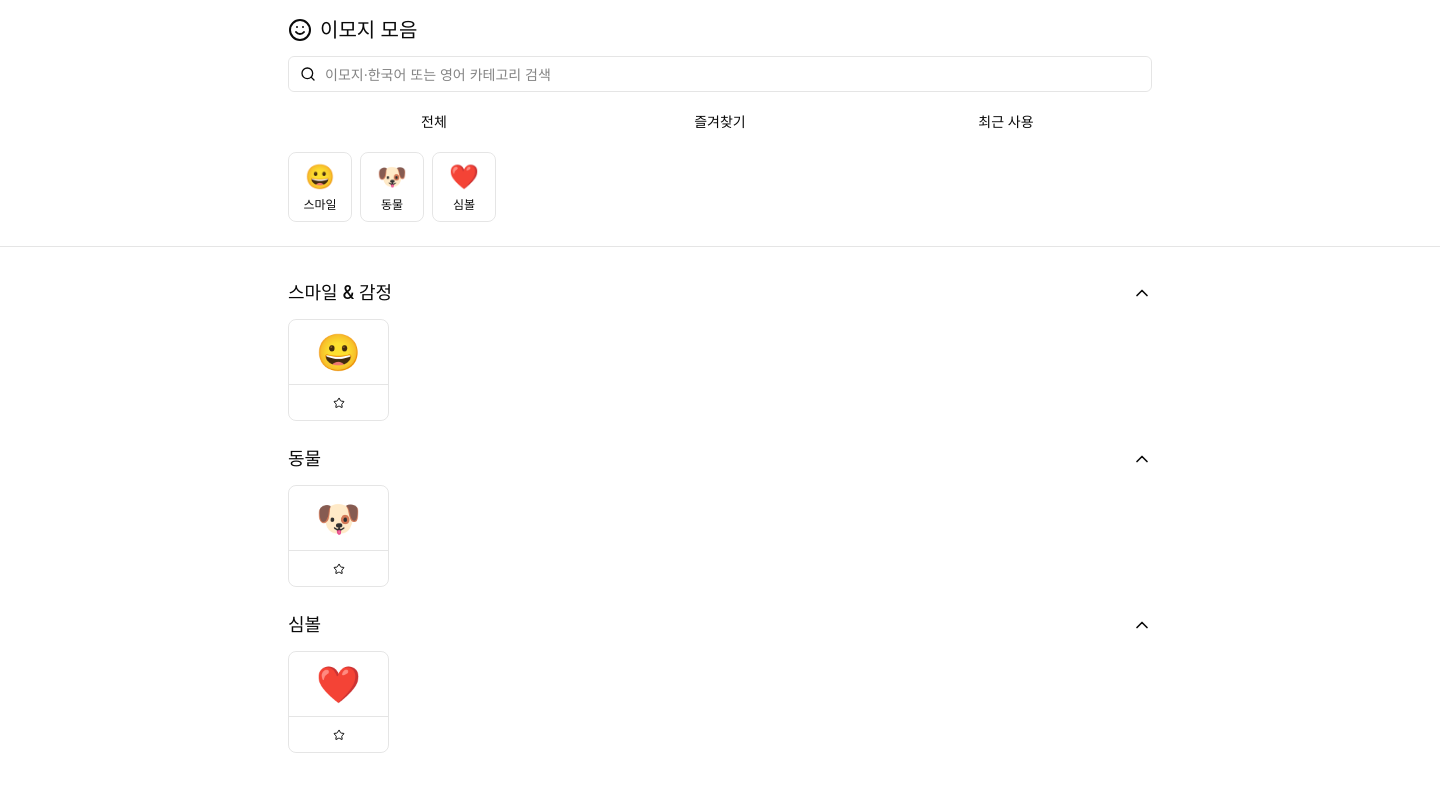
it: preserves a key corrupted after a healthy mount
Click the button named "즐겨찾기 추가" at (338, 402), box [289, 384, 388, 420]
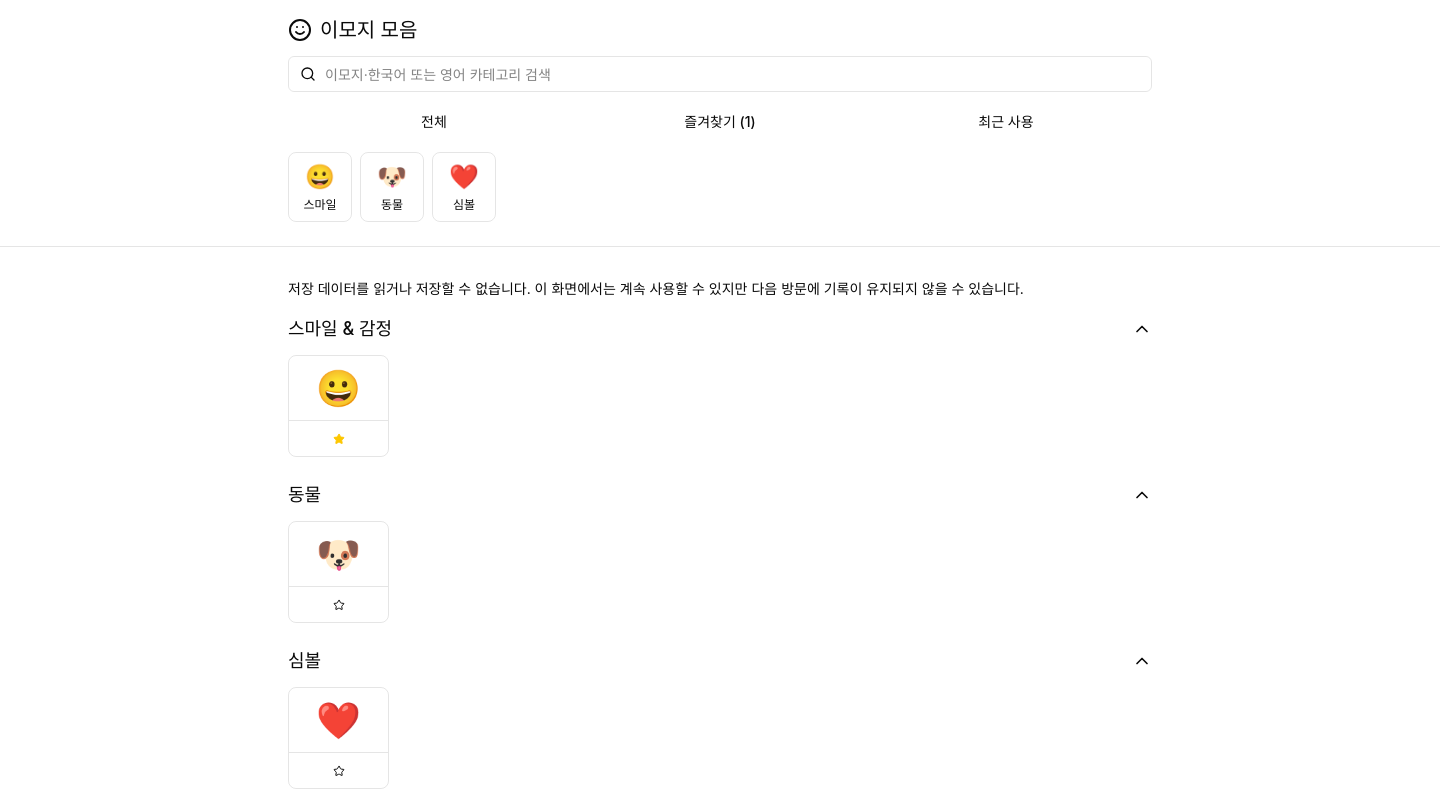
expect the message "저장 데이터를 읽거나 저장할 수 없습니다. 이 화면에서는 계속 사용할 수 있지만 다음 방문에 기록이 유지되지 않을 수 있습니다." is shown: met, box [288, 279, 1152, 299]
